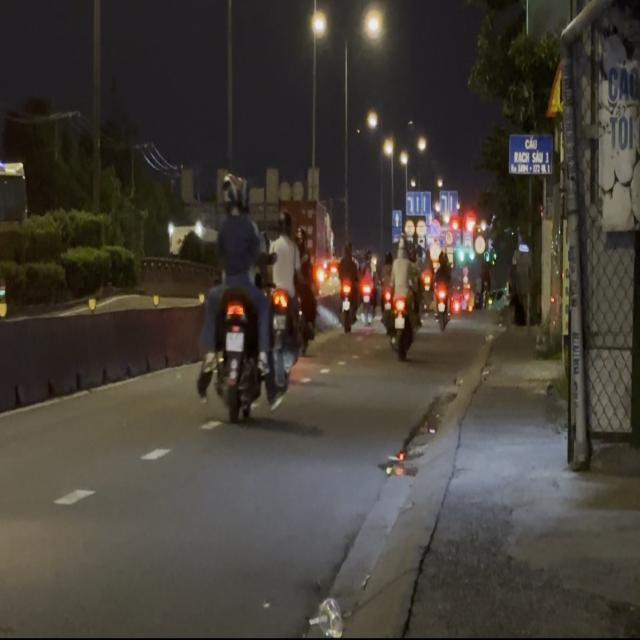helmet: (220, 175, 240, 218)
licenseplate: (196, 169, 272, 426)
nohelmet: (225, 331, 244, 350)
